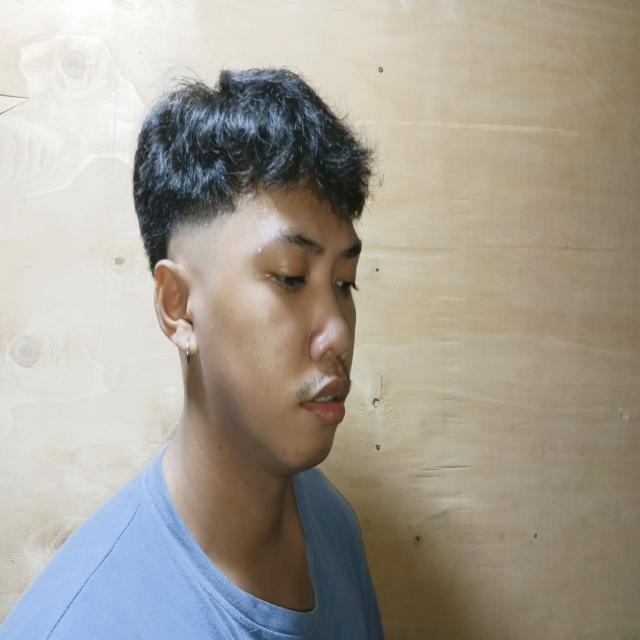Nonhelmet: (126, 63, 383, 478)
